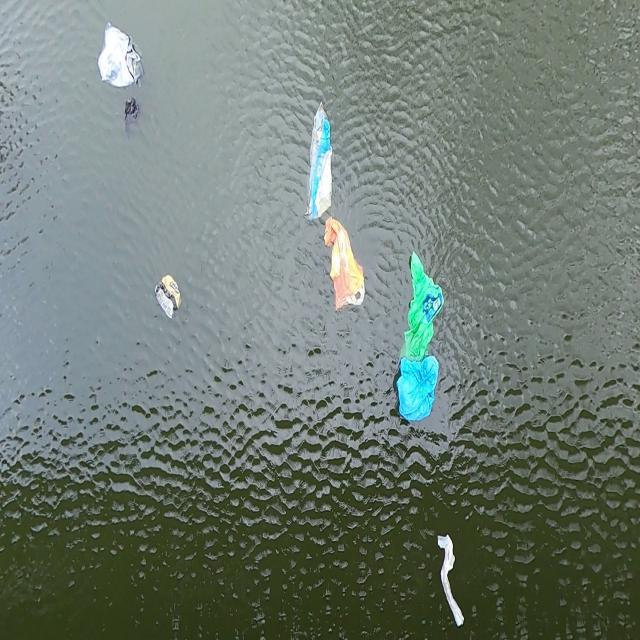Sac plastique: (321, 218, 366, 313), (404, 252, 444, 357), (434, 530, 467, 630), (306, 104, 335, 215), (96, 23, 145, 88), (395, 358, 441, 425), (154, 274, 182, 318), (124, 97, 140, 131)
